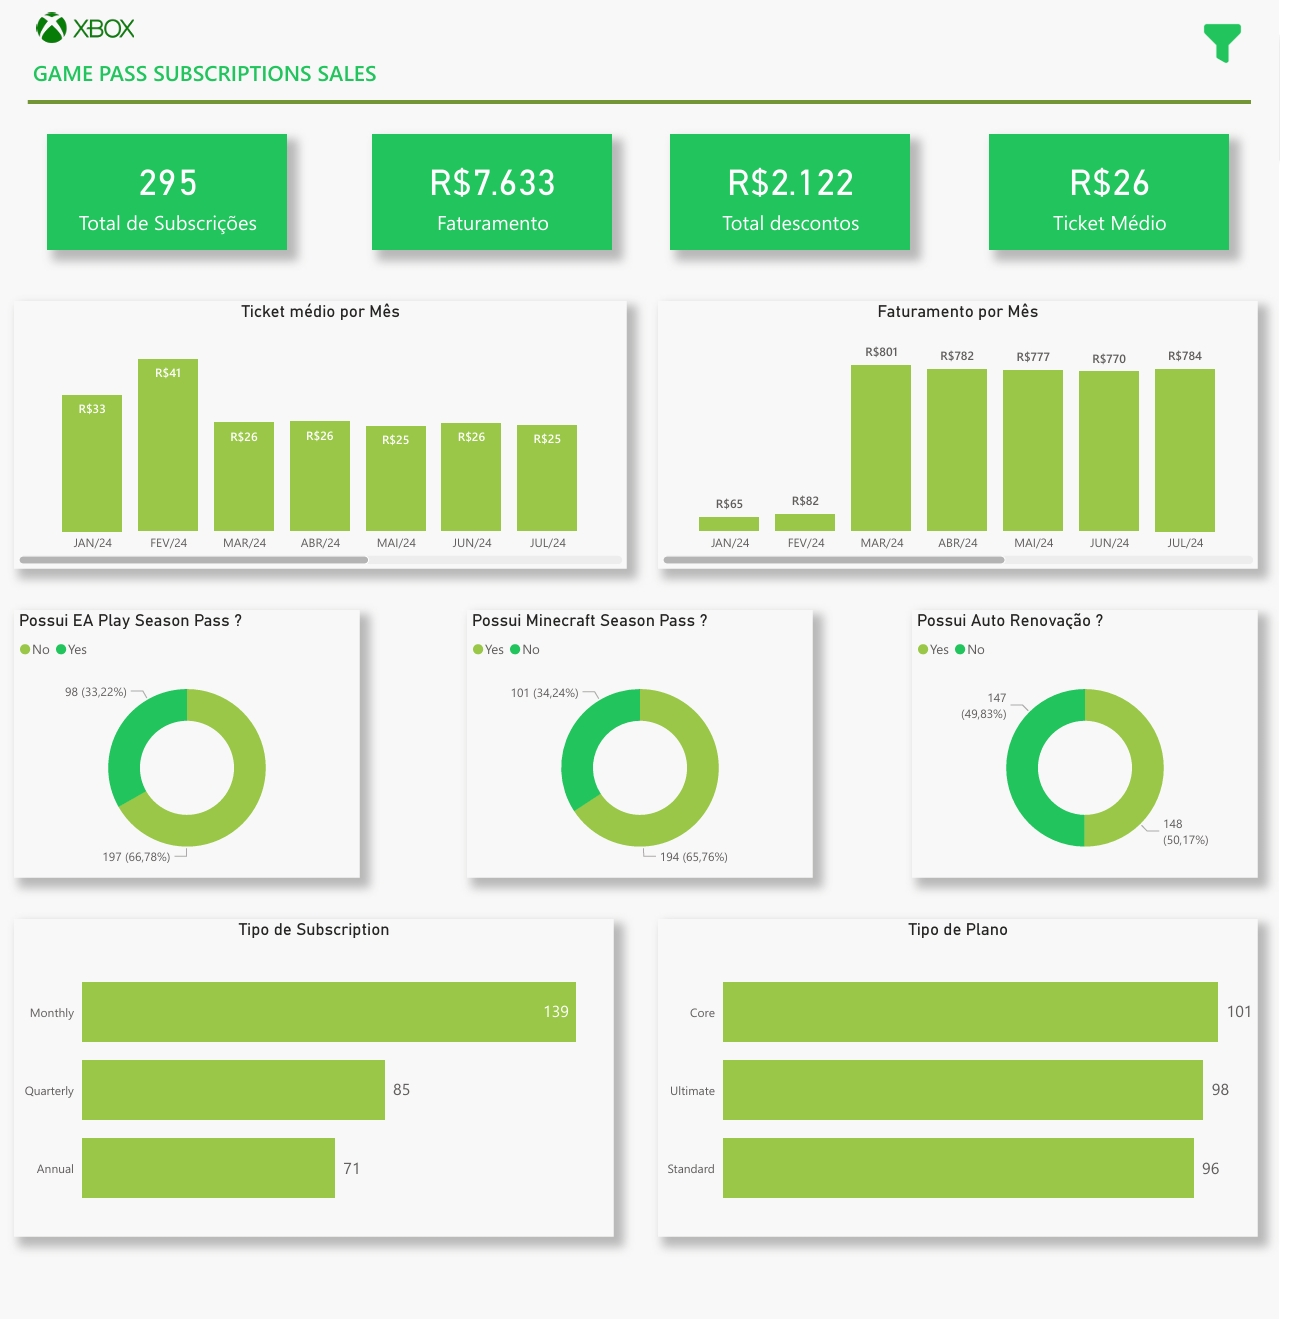

This screenshot's page, from the dashboard's own definition file:
{"tool":"powerbi","page":{"name":"Resumo","canvas":[1280,1320],"ordinal":0},"visuals":[{"type":"card","fields":{"Values":["Medidas.ttl_subscribers"]},"box":[48.5,135,239.9,116.1],"z":0},{"type":"card","fields":{"Values":["Medidas.ttl_venda"]},"box":[373,134.7,240,116.8],"z":1000},{"type":"card","fields":{"Values":["Medidas.ttl_desconto"]},"box":[671.4,134.7,240,116.8],"z":2000},{"type":"card","fields":{"Values":["Medidas.tikcet_medio"]},"box":[990.3,134.7,240,116],"z":3000},{"type":"clusteredColumnChart","title":"Ticket médio por Mês","fields":{"Y":["Medidas.ticket_medio"],"Category":["D_Calendario.UPPER MesAno"]},"box":[13.6,300.9,613,268.1],"z":4000},{"type":"clusteredColumnChart","title":"Faturamento por Mês","fields":{"Y":["Medidas.ttl_venda"],"Category":["D_Calendario.UPPER MesAno"]},"box":[657.9,300.9,600,268.1],"z":5000},{"type":"donutChart","title":"Possui EA Play Season Pass ?","fields":{"Category":["B̳ases.EA Play Season Pass"],"Y":["CountNonNull(B̳ases.EA Play Season Pass)"]},"box":[13.6,610,345.9,268.1],"z":6000},{"type":"donutChart","title":"Possui Minecraft Season Pass ?","fields":{"Category":["B̳ases.Minecraft Season Pass"],"Y":["CountNonNull(B̳ases.Minecraft Season Pass)"]},"box":[466.6,610,345.9,268.1],"z":7000},{"type":"donutChart","title":"Possui Auto Renovação ?","fields":{"Category":["B̳ases.Auto Renewal"],"Y":["CountNonNull(B̳ases.Auto Renewal)"]},"box":[912,610,345.9,268.1],"z":8000},{"type":"clusteredBarChart","title":"Tipo de Subscription","fields":{"Category":["B̳ases.Subscription Type"],"Y":["CountNonNull(B̳ases.Subscription Type)"]},"box":[13.6,919.2,600,317.8],"z":9000},{"type":"clusteredBarChart","title":"Tipo de Plano","fields":{"Category":["B̳ases.Plan"],"Y":["CountNonNull(B̳ases.Plan)"]},"box":[657.9,919.2,600,317.8],"z":10000},{"type":"image","box":[0,12.6,172.4,29.9],"z":11000},{"type":"shape","box":[27.6,74.7,1223.7,54],"z":12000},{"type":"textbox","box":[27.6,52.9,488.3,42.5],"z":13000},{"type":"image","title":"Filtro_Off","box":[1192.7,18.4,58.6,48.3],"z":14000}]}

Visuals, with their boxes in screenshot pixels (x1, y1, x2, y2), scaled from the page's 1280x1320 canvas onto the 1290x1322 screenshot:
card - Medidas.ttl_subscribers: detection(49, 135, 291, 251)
card - Medidas.ttl_venda: detection(376, 135, 618, 252)
card - Medidas.ttl_desconto: detection(677, 135, 919, 252)
card - Medidas.tikcet_medio: detection(998, 135, 1240, 251)
"Ticket médio por Mês" clusteredColumnChart: detection(14, 301, 631, 570)
"Faturamento por Mês" clusteredColumnChart: detection(663, 301, 1268, 570)
"Possui EA Play Season Pass ?" donutChart: detection(14, 611, 362, 879)
"Possui Minecraft Season Pass ?" donutChart: detection(470, 611, 819, 879)
"Possui Auto Renovação ?" donutChart: detection(919, 611, 1268, 879)
"Tipo de Subscription" clusteredBarChart: detection(14, 921, 618, 1239)
"Tipo de Plano" clusteredBarChart: detection(663, 921, 1268, 1239)
image: detection(0, 13, 174, 43)
shape: detection(28, 75, 1261, 129)
textbox: detection(28, 53, 520, 96)
"Filtro_Off" image: detection(1202, 18, 1261, 67)
